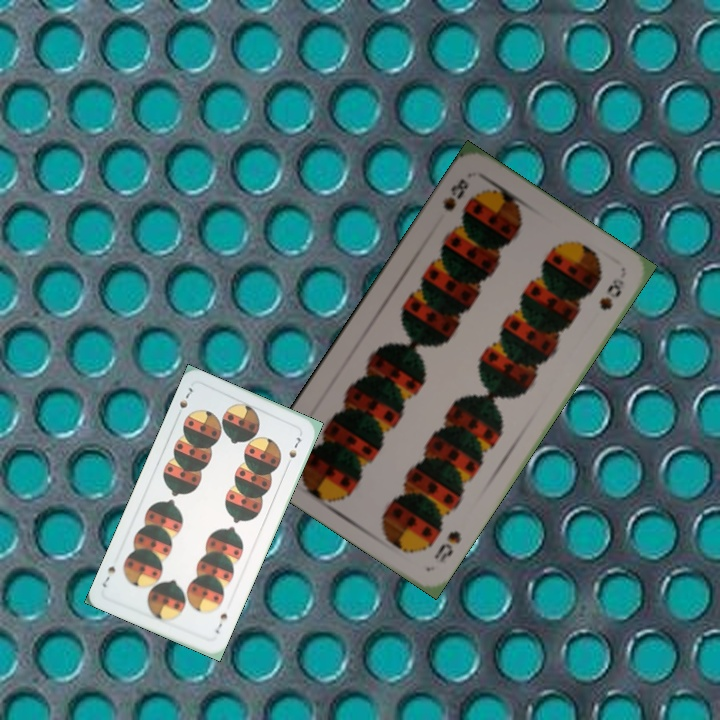S7: (173, 382, 196, 420), (211, 609, 230, 636)
S8: (438, 174, 472, 214), (430, 526, 464, 566)
